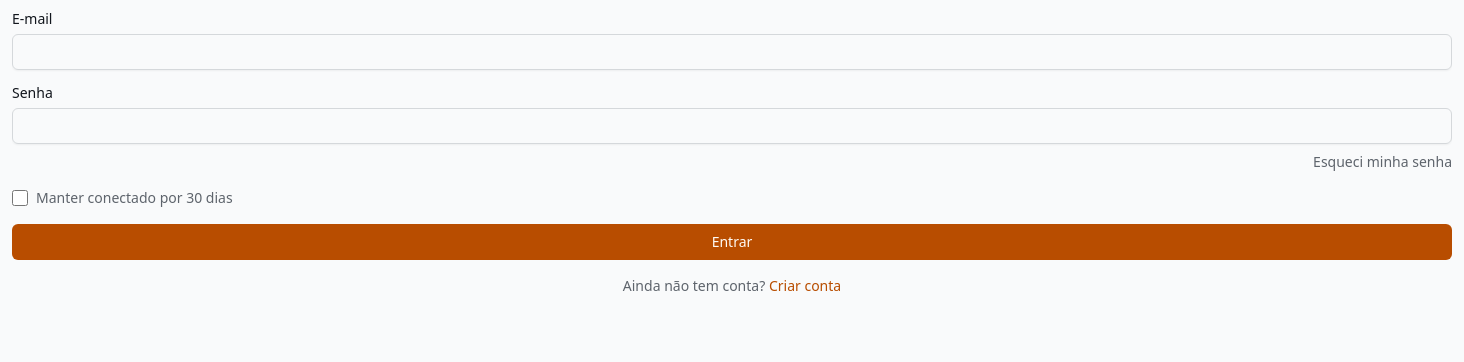
LoginForm › explains the rate limit
The width and height of the screenshot is (1464, 362).
Type "ana@example.com" into the field labelled "E-mail" at {"x": 732, "y": 52}, box [12,34,1452,70]
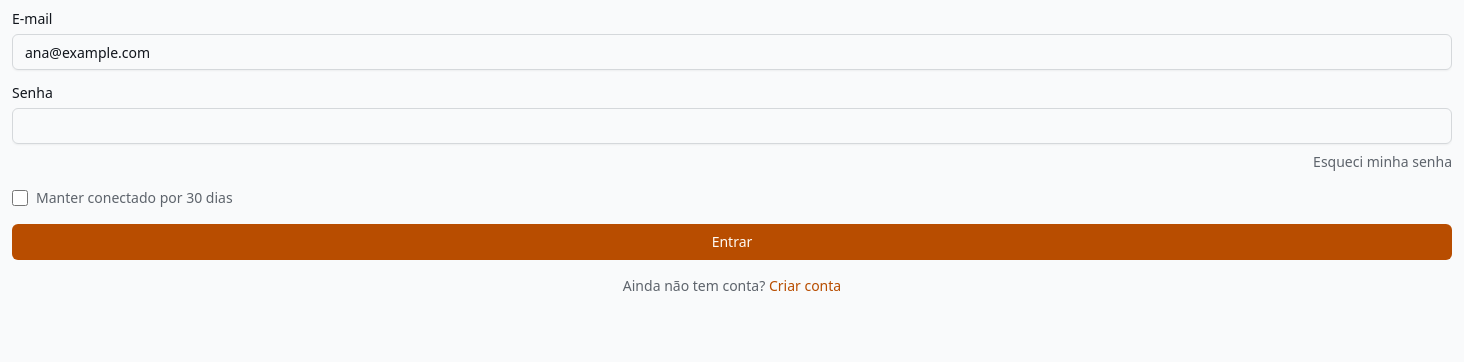
Type "correct-horse-9" into the password field labelled "Senha" at {"x": 732, "y": 126}, box [12,108,1452,144]
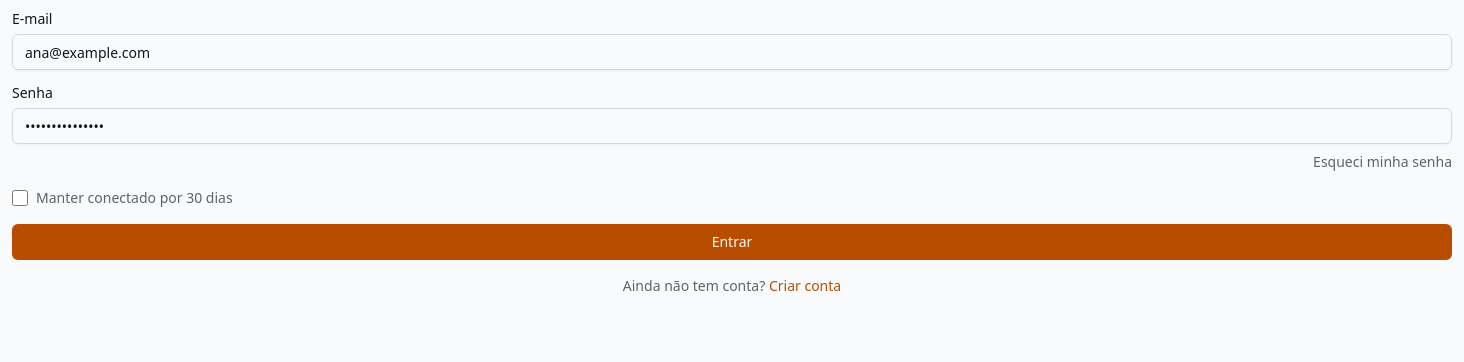
Click the button "Entrar" at {"x": 732, "y": 242}, box [12,224,1452,260]
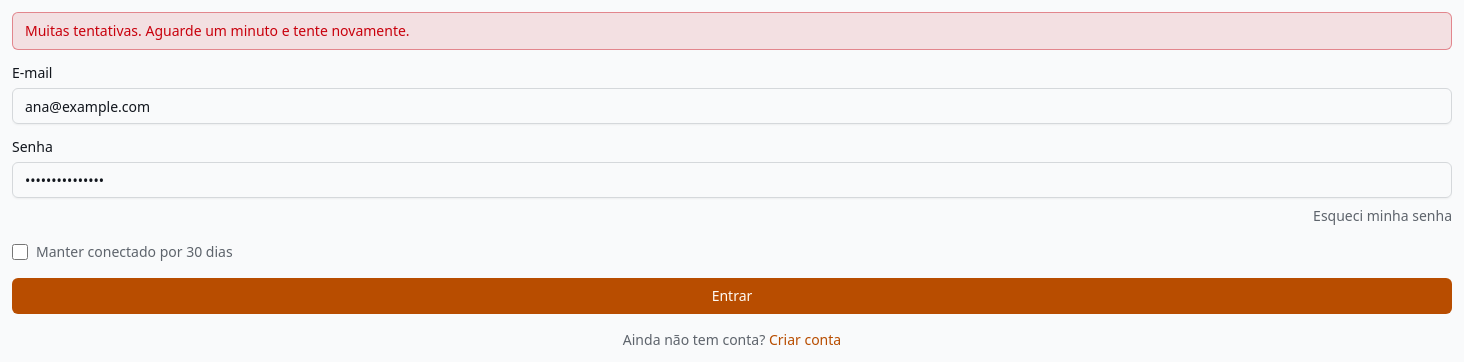
Expected: the message shows "Muitas tentativas", [25,21,410,40]
